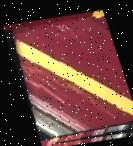scratch: (1, 5, 133, 146)
